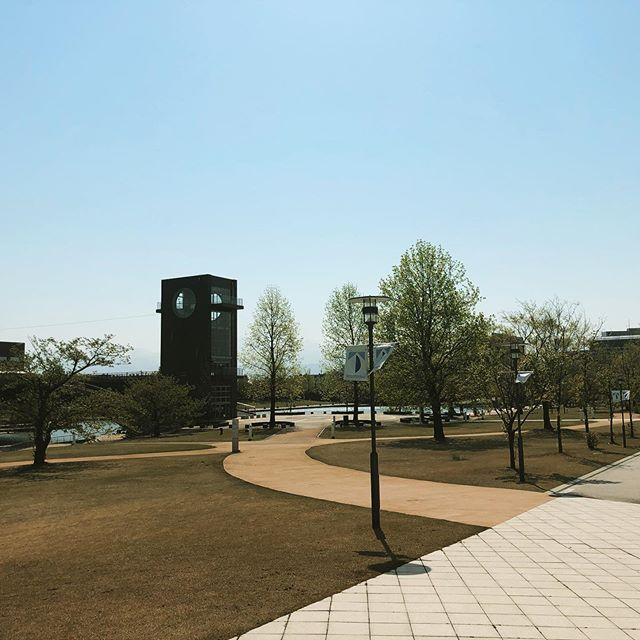building: (149, 267, 241, 422)
light pole: (349, 289, 401, 554), (496, 334, 536, 487)
sky: (1, 1, 640, 322)
tree: (369, 236, 495, 456), (1, 343, 113, 478)
